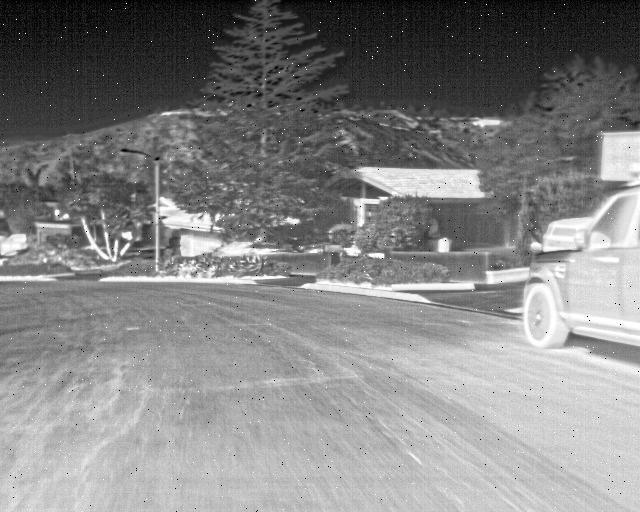car: (508, 194, 640, 363)
